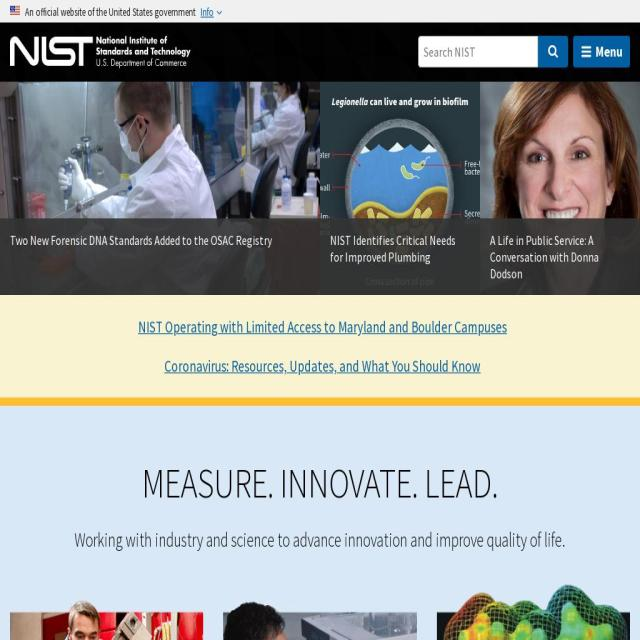button: (0, 81, 320, 295), (320, 81, 480, 295), (480, 81, 640, 295), (0, 218, 320, 262), (480, 217, 640, 295), (320, 218, 480, 278), (10, 36, 191, 68), (573, 36, 630, 68), (538, 36, 568, 68), (200, 5, 222, 17)
field: (418, 36, 538, 68)
heading: (10, 458, 630, 506)
image: (0, 81, 320, 295), (320, 81, 480, 295), (480, 81, 640, 295), (10, 581, 204, 640), (223, 581, 417, 640), (436, 581, 630, 640), (10, 36, 191, 68), (10, 6, 20, 15)
link: (164, 355, 480, 376)
text: (10, 525, 630, 555), (138, 316, 507, 336), (490, 230, 630, 282), (10, 231, 310, 248), (330, 231, 470, 265), (25, 5, 196, 17), (200, 4, 213, 18)
